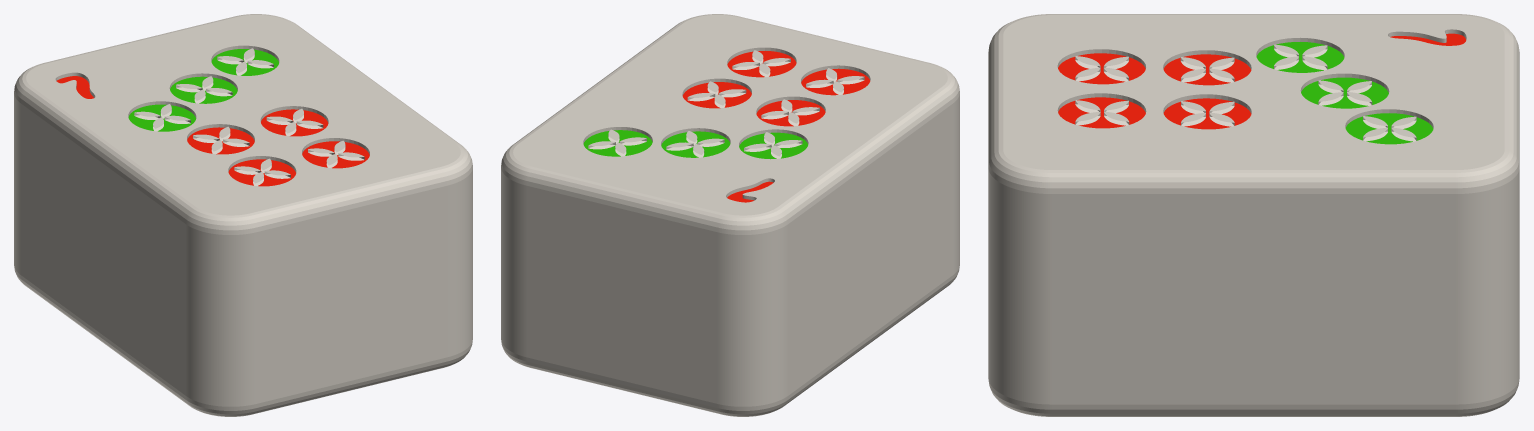
Rendered from mj-tile-stamp-pair-d-7-baseline-inlay.glb.
3 renders of one model, left to right at view 1: azimuth 30°, elevation 25°; view 2: azimuth 150°, elevation 25°; view 3: azimuth 270°, elevation 25°, orthographic. The views are drawn at different scales.
Visible parts, largest first — view 1: tileStampPairMesh, tileFaceInlay-004-st7-4, tileFaceInlay-006-st10-1, tileFaceInlay-003-st7-3, tileFaceInlay-007-st10-2, tileFaceInlay-001-st7-1, tileFaceInlay-005-st10-0, tileFaceInlay-002-st7-2; view 2: tileStampPairMesh, tileFaceInlay-007-st10-2, tileFaceInlay-005-st10-0, tileFaceInlay-002-st7-2, tileFaceInlay-004-st7-4, tileFaceInlay-006-st10-1, tileFaceInlay-001-st7-1, tileFaceInlay-003-st7-3; view 3: tileStampPairMesh, tileFaceInlay-007-st10-2, tileFaceInlay-005-st10-0, tileFaceInlay-004-st7-4, tileFaceInlay-006-st10-1, tileFaceInlay-003-st7-3, tileFaceInlay-002-st7-2, tileFaceInlay-001-st7-1.
Boxes of the visible parts, x1,y1,x2,y2 form: tileStampPairMesh: (14, 14, 472, 416); tileFaceInlay-004-st7-4: (302, 141, 369, 168); tileFaceInlay-006-st10-1: (128, 104, 195, 131); tileFaceInlay-003-st7-3: (228, 159, 295, 186); tileFaceInlay-007-st10-2: (211, 49, 278, 75); tileFaceInlay-001-st7-1: (187, 127, 254, 154); tileFaceInlay-005-st10-0: (170, 76, 237, 103); tileFaceInlay-002-st7-2: (261, 109, 328, 136); tileStampPairMesh: (501, 14, 959, 416); tileFaceInlay-007-st10-2: (583, 130, 652, 156); tileFaceInlay-005-st10-0: (661, 131, 730, 157); tileFaceInlay-002-st7-2: (682, 82, 751, 108); tileFaceInlay-004-st7-4: (727, 51, 796, 77); tileFaceInlay-006-st10-1: (739, 132, 807, 159); tileFaceInlay-001-st7-1: (756, 100, 825, 126); tileFaceInlay-003-st7-3: (801, 68, 870, 95); tileStampPairMesh: (988, 14, 1519, 416); tileFaceInlay-007-st10-2: (1345, 113, 1433, 144); tileFaceInlay-005-st10-0: (1301, 77, 1388, 108); tileFaceInlay-004-st7-4: (1058, 97, 1145, 128); tileFaceInlay-006-st10-1: (1256, 42, 1344, 72); tileFaceInlay-003-st7-3: (1058, 53, 1145, 84); tileFaceInlay-002-st7-2: (1163, 98, 1251, 129); tileFaceInlay-001-st7-1: (1163, 54, 1251, 85).
Bounding box in the file's own units: 0.854 × 0.584 × 1.14.
